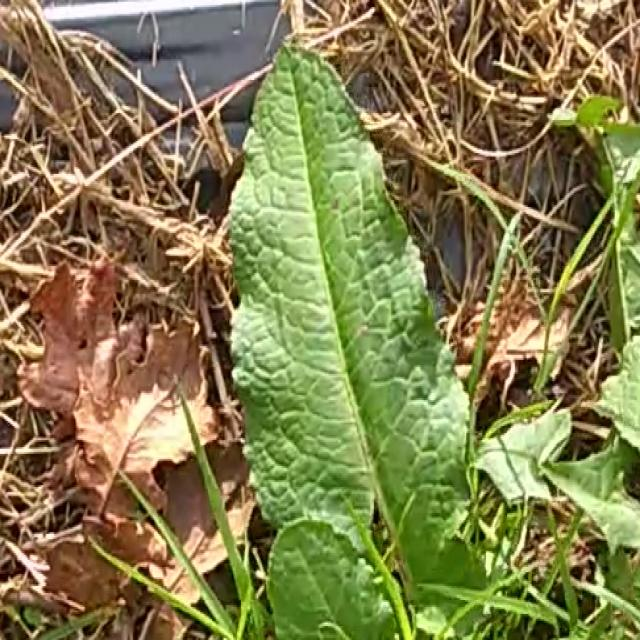organic waste: (161, 12, 565, 640)
